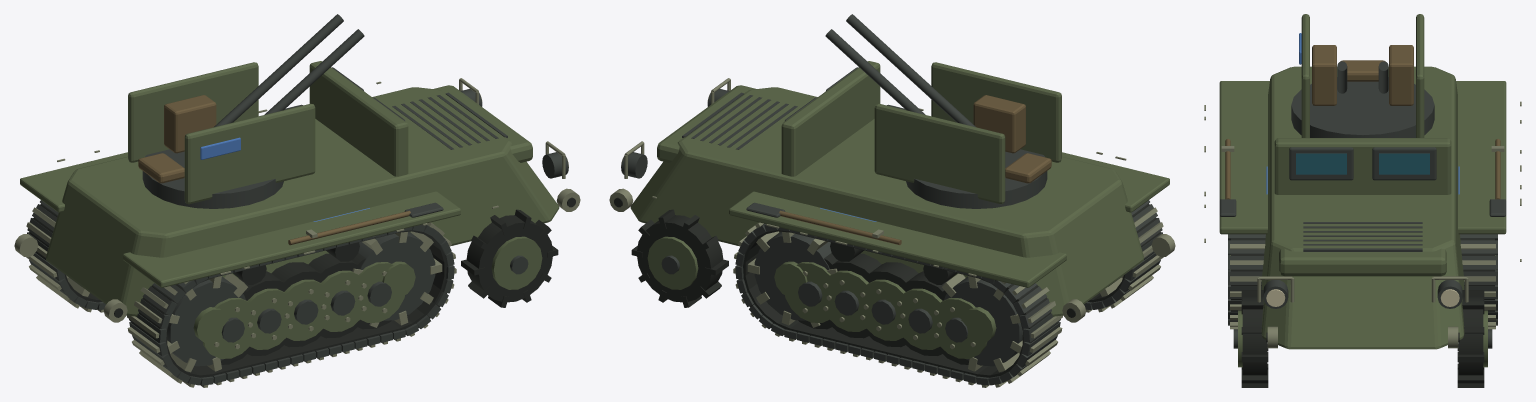
File: aahalftrack.glb
3 renders of one model, left to right at view 1: azimuth 30°, elevation 25°; view 2: azimuth 150°, elevation 25°; view 3: azimuth 270°, elevation 25°, orthographic.
Visible parts, largest first — view 1: Armor, Steel, Tracks, EdgeSteel, Canvas, TeamColor; view 2: Armor, Steel, Tracks, EdgeSteel, Canvas; view 3: Armor, Steel, Tracks, Canvas, EdgeSteel, Optics, Markings.
Part boxes in pixels (x1,y1,x2,y2): Armor: [20, 61, 559, 358]; Steel: [27, 14, 568, 385]; Tracks: [29, 197, 575, 377]; EdgeSteel: [14, 78, 580, 387]; Canvas: [138, 95, 410, 245]; TeamColor: [200, 137, 369, 221]; Armor: [630, 61, 1169, 358]; Steel: [621, 14, 1162, 385]; Tracks: [614, 197, 1160, 377]; EdgeSteel: [609, 78, 1175, 387]; Canvas: [779, 95, 1051, 245]; Armor: [1219, 14, 1506, 367]; Steel: [1219, 61, 1506, 348]; Tracks: [1231, 238, 1494, 387]; Canvas: [1225, 45, 1500, 199]; EdgeSteel: [1204, 101, 1521, 348]; Optics: [1296, 153, 1429, 174]; Markings: [1266, 289, 1459, 306].
Bounding box in the file's own units: 5.29 × 2.86 × 3.06.
